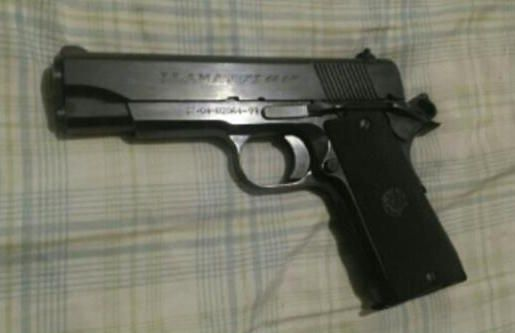Arma Real: (46, 41, 476, 315)
